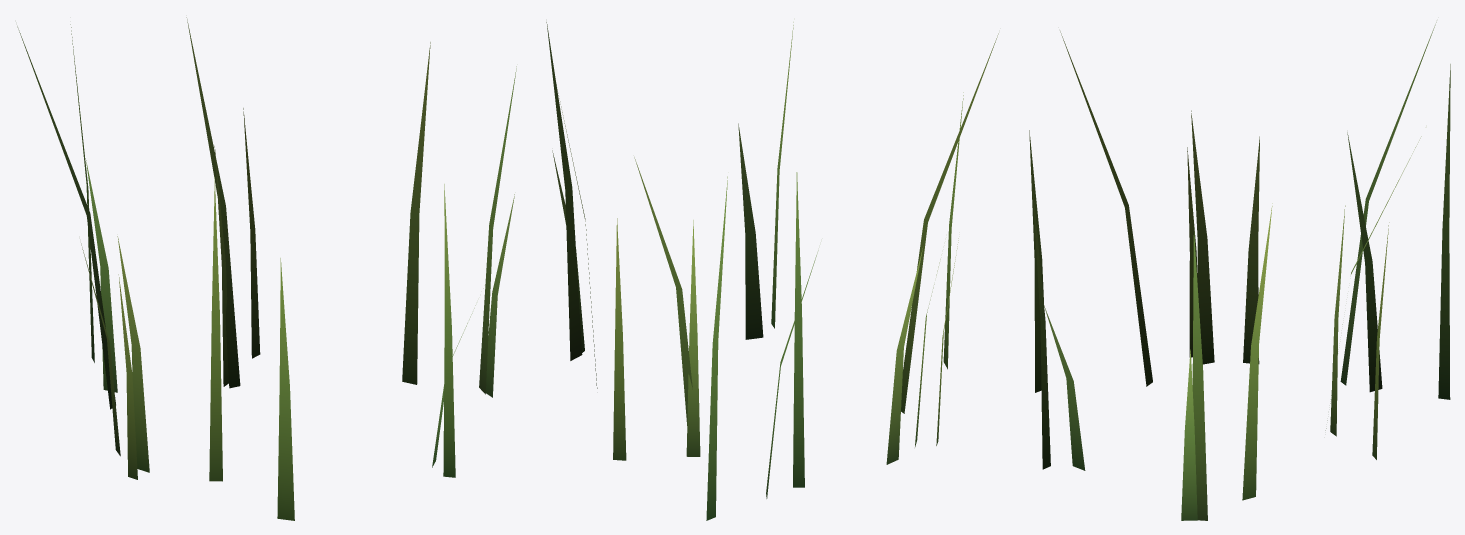
Rendered from grass-lawn-b.lod1.glb.
3 views of the same model, side by side, from view 1: azimuth 30°, elevation 25°; view 2: azimuth 150°, elevation 25°; view 3: azimuth 270°, elevation 25° (orthographic). The views are drawn at different scales.
Visible parts, largest first — view 1: grass-lawn-b.lod1; view 2: grass-lawn-b.lod1; view 3: grass-lawn-b.lod1.
Part boxes in pixels (x1,y1,x2,y2): grass-lawn-b.lod1: (17,17,516,520); grass-lawn-b.lod1: (546,22,998,520); grass-lawn-b.lod1: (1029,22,1450,520).
Bounding box in the file's own units: 0.2981 × 0.2567 × 0.2823.
